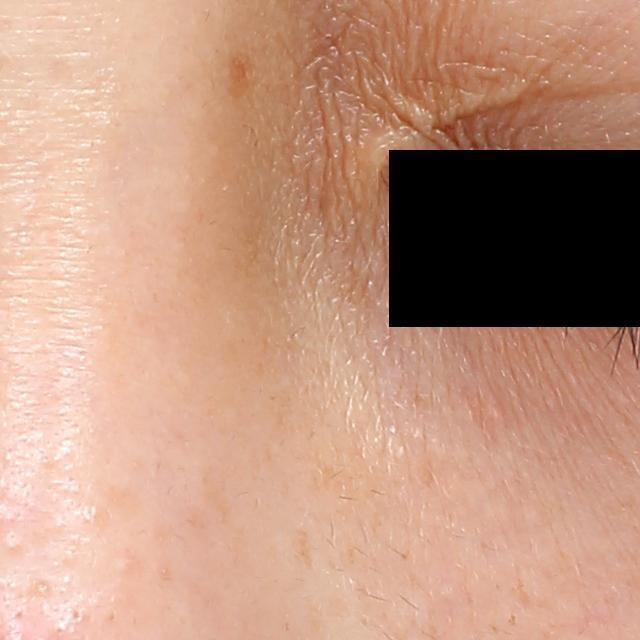comedo: (2, 536, 24, 556)
melasma: (229, 47, 258, 98), (292, 532, 313, 566)
